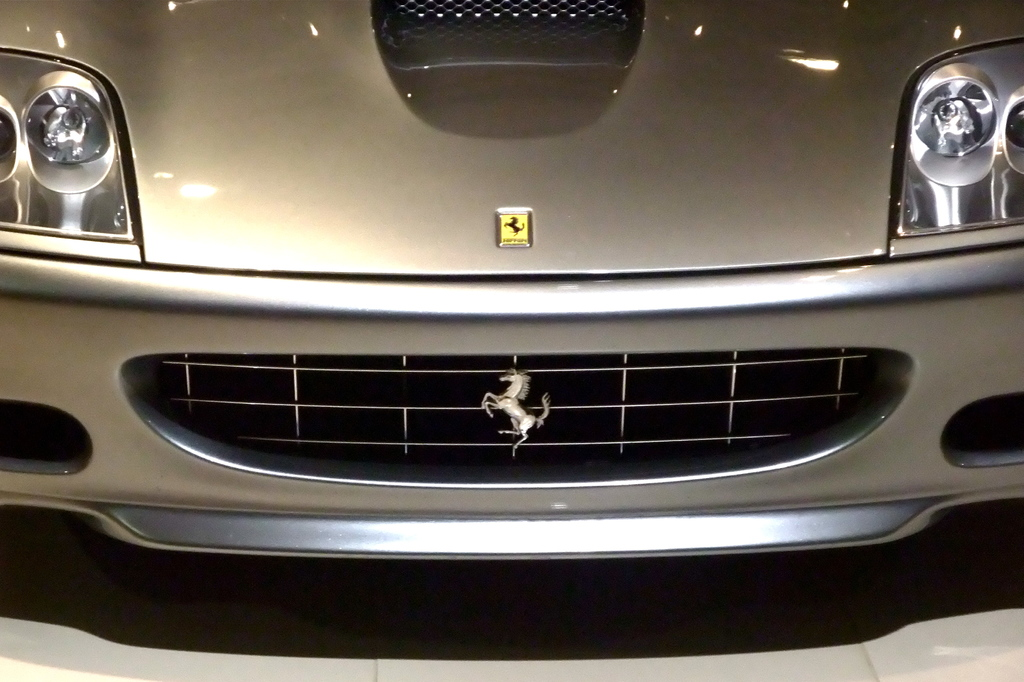Car: (0, 0, 1024, 559)
